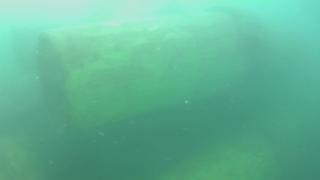pipe: (36, 7, 264, 130), (148, 130, 278, 180), (1, 133, 44, 180)
